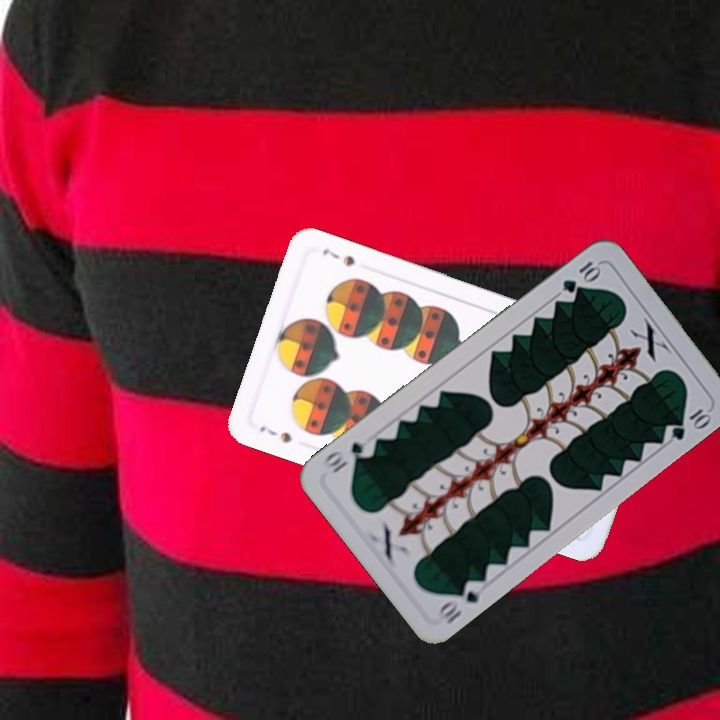G10: (432, 575, 483, 627), (558, 257, 603, 296)
S7: (255, 421, 295, 446)
